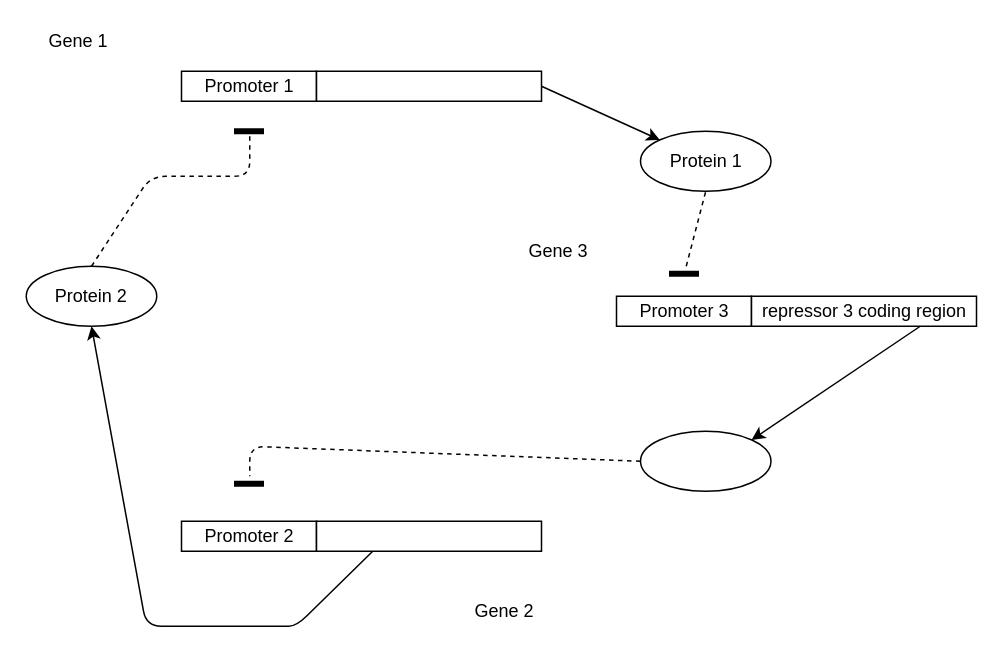
Image size: 1004x665. Some labels were removed from this diagram. The centre of each missing label's shape, as x and y in pixels:
Protein 3: the point at 705,460
repressor 1 coding region: the point at 428,85
repressor 2 coding region: the point at 428,535
